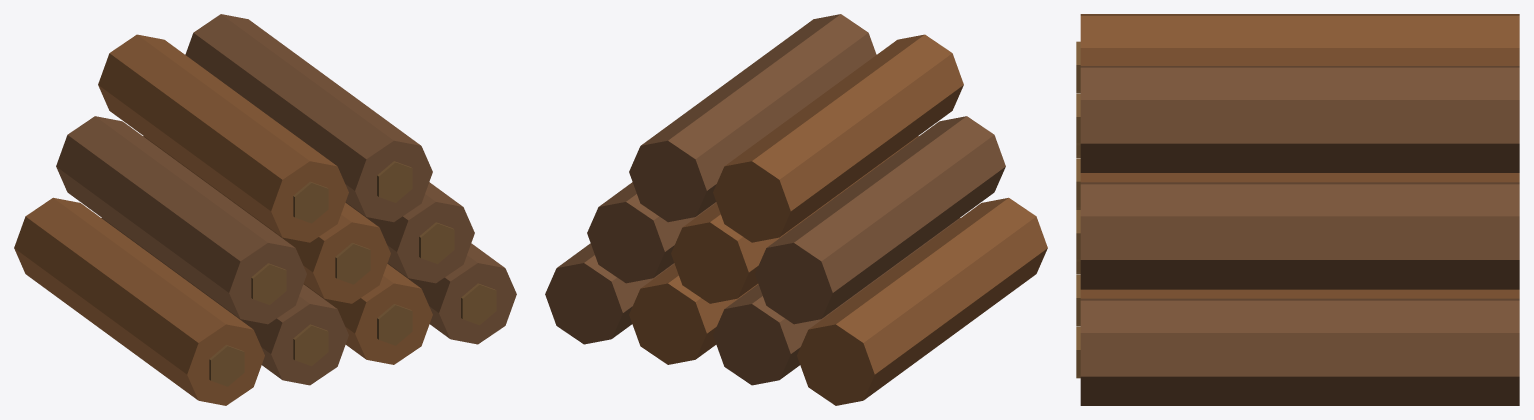
Rendered from pile_leather_3.glb.
3 views of the same model, side by side, from view 1: azimuth 30°, elevation 25°; view 2: azimuth 150°, elevation 25°; view 3: azimuth 270°, elevation 25° (orthographic). The views are drawn at different scales.
Parts seen in each view (by area): view 1: pile_leather_3; view 2: pile_leather_3; view 3: pile_leather_3.
Boxes of the visible parts, x1,y1,x2,y2 form: pile_leather_3: [14, 14, 516, 405]; pile_leather_3: [545, 14, 1047, 405]; pile_leather_3: [1076, 14, 1519, 405].
Size of the model in its own units: 1.1 by 0.715 by 1.01.
